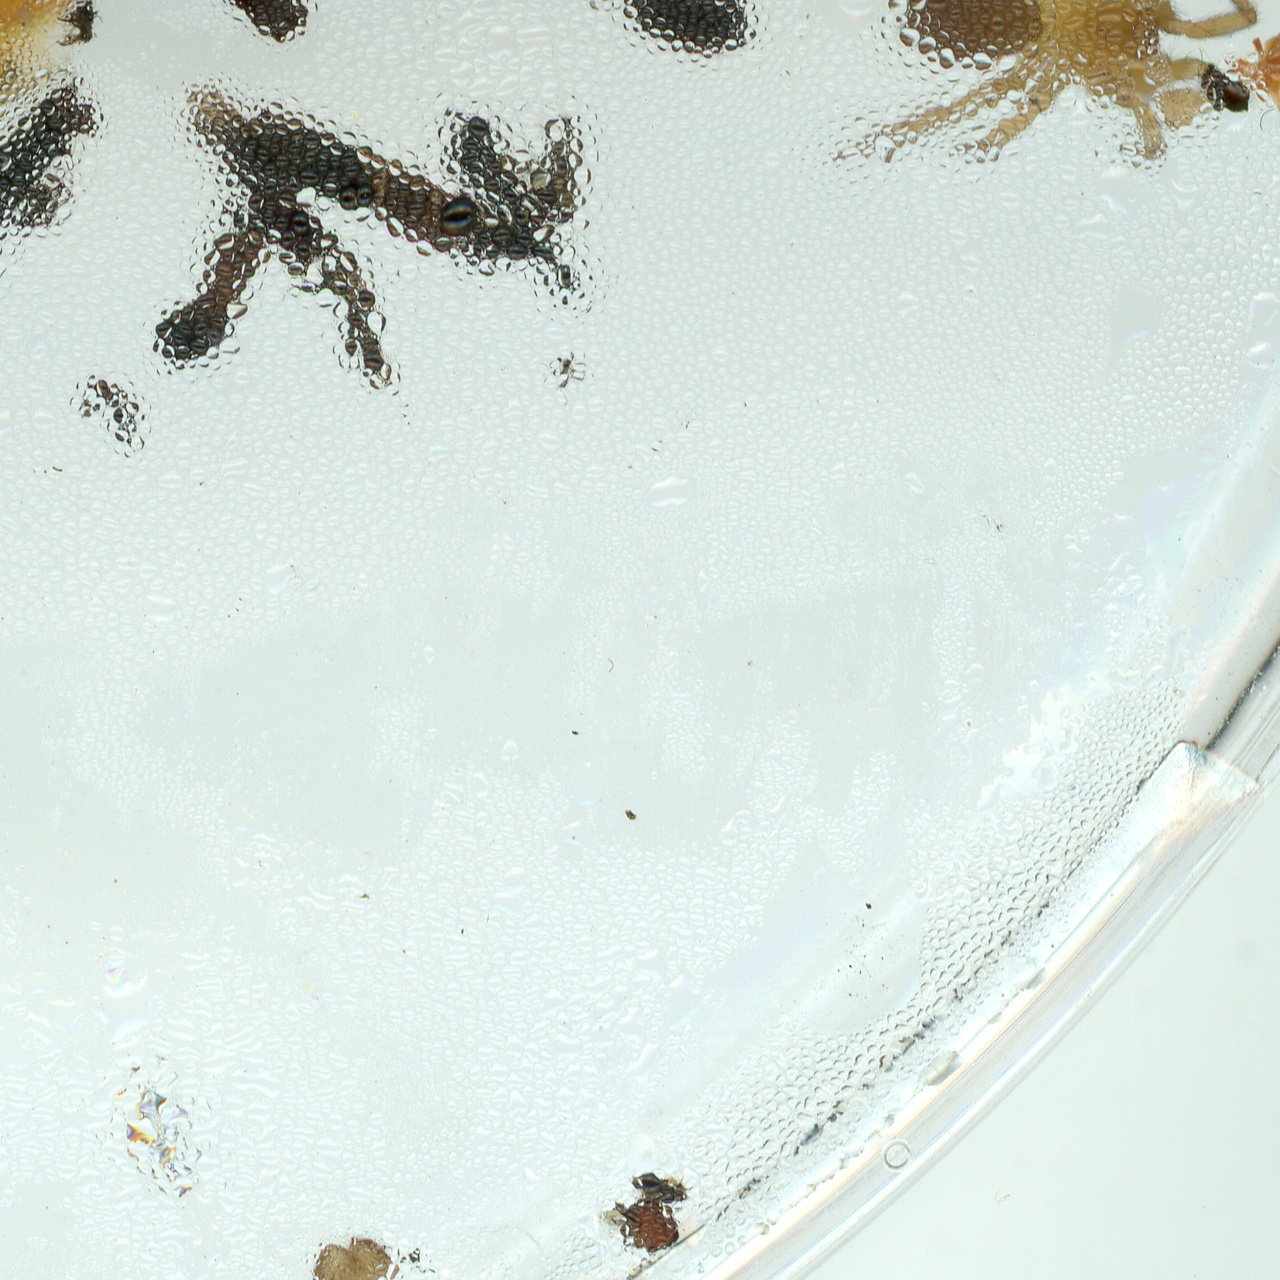arthropod: (804, 0, 1262, 179), (1224, 29, 1280, 125)
